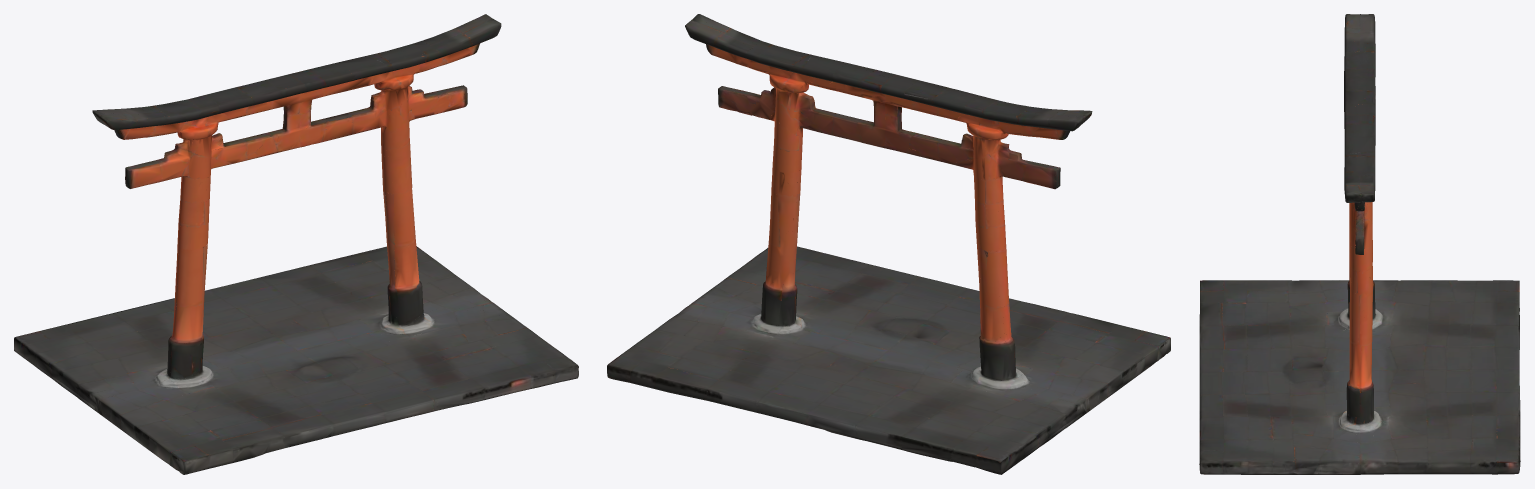
File: gate.glb
3 views of the same model, side by side, from view 1: azimuth 30°, elevation 25°; view 2: azimuth 150°, elevation 25°; view 3: azimuth 270°, elevation 25° (orthographic). The views are drawn at different scales.
Parts seen in each view (by area): view 1: gate_2; view 2: gate_2; view 3: gate_2.
Part boxes in pixels (bbox=[...]): gate_2: bbox=[14, 14, 578, 474]; gate_2: bbox=[607, 14, 1170, 474]; gate_2: bbox=[1199, 14, 1520, 474].
Bounding box in the file's own units: 18.16 × 13.09 × 13.52.
1 material, 1 textured.
